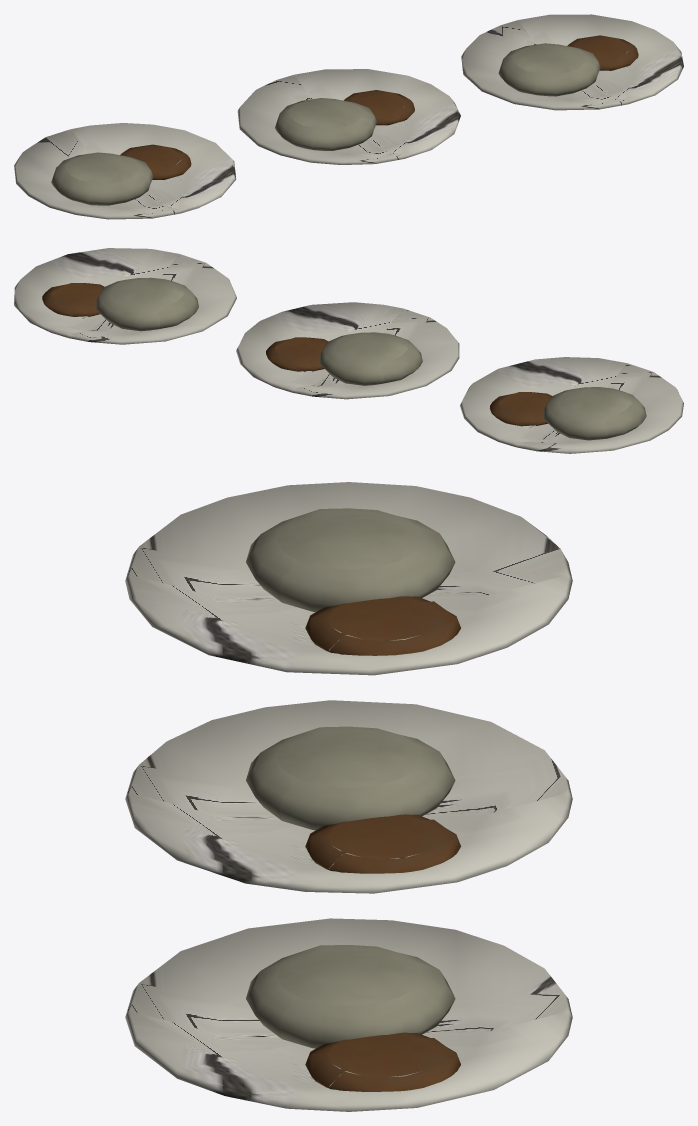
The model's file is FD03_OldPlatesOfFood.glb.
3 views of the same model, one above another, from view 1: azimuth 30°, elevation 25°; view 2: azimuth 150°, elevation 25°; view 3: azimuth 270°, elevation 25° (orthographic). The views are drawn at different scales.
Visible parts, largest first — view 1: FD03_OldPlatesOfFood; view 2: FD03_OldPlatesOfFood; view 3: FD03_OldPlatesOfFood.
Part boxes in pixels (x1,y1,x2,y2): FD03_OldPlatesOfFood: (14, 14, 683, 219); FD03_OldPlatesOfFood: (14, 248, 683, 453); FD03_OldPlatesOfFood: (125, 482, 572, 1111).
Bounding box in the file's own units: 0.3 × 0.0147 × 0.0907.
Materials: 3 (3 with a texture image).
